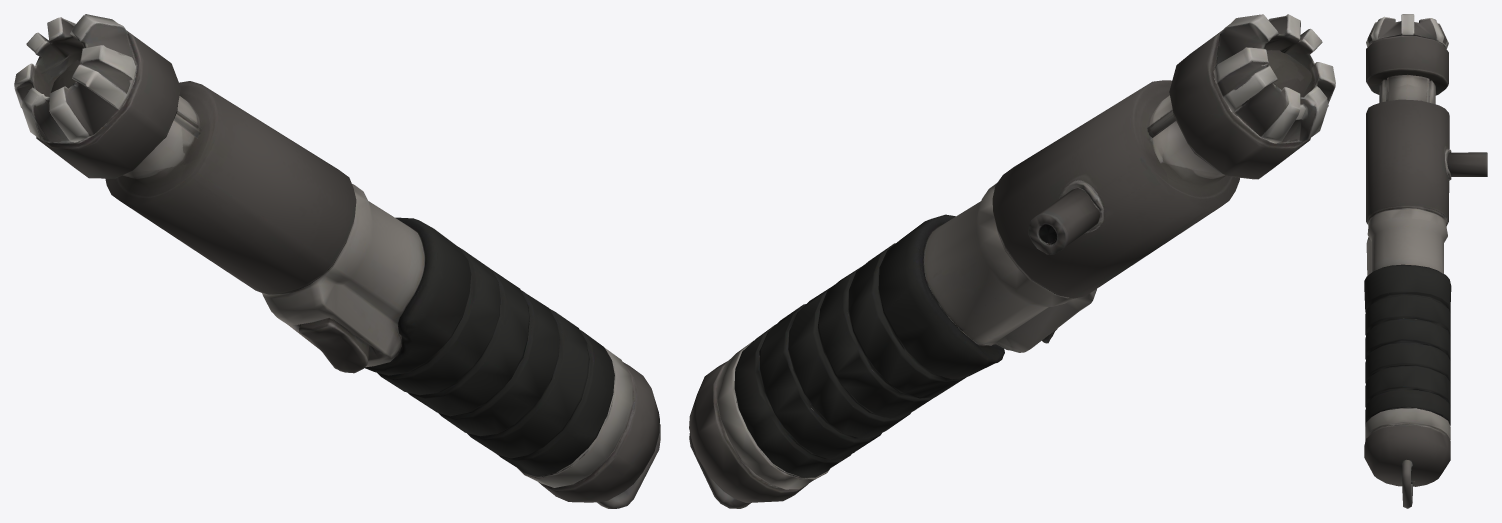
The model's file is stun_baton.glb.
3 renders of one model, left to right at view 1: azimuth 30°, elevation 25°; view 2: azimuth 150°, elevation 25°; view 3: azimuth 270°, elevation 25°, orthographic. The views are drawn at different scales.
Parts seen in each view (by area): view 1: stun_baton; view 2: stun_baton; view 3: stun_baton.
Boxes of the visible parts, bbox=[...] form: stun_baton: bbox=[14, 14, 660, 508]; stun_baton: bbox=[689, 14, 1335, 508]; stun_baton: bbox=[1364, 14, 1487, 508].
Size of the model in its own units: 0.998 by 0.9316 by 0.2988.
Materials: 1 (1 with a texture image).
